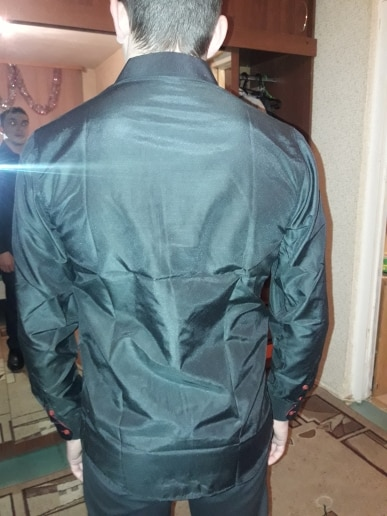shirts: (22, 65, 337, 492)
